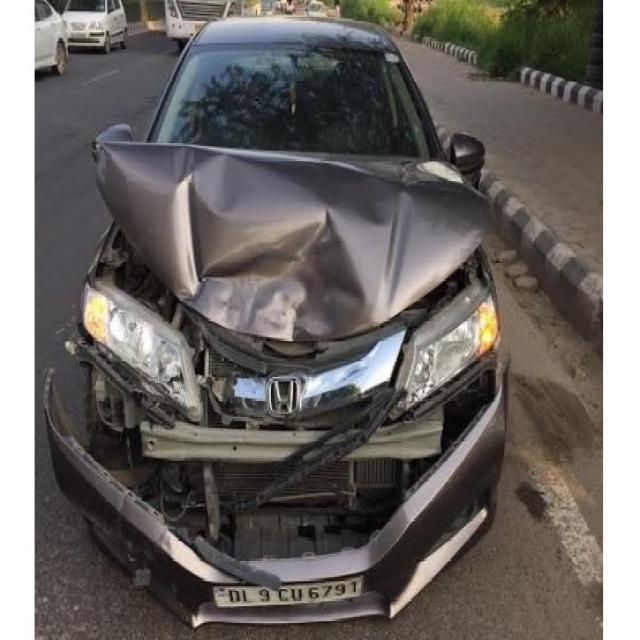accident: (45, 20, 508, 626)
